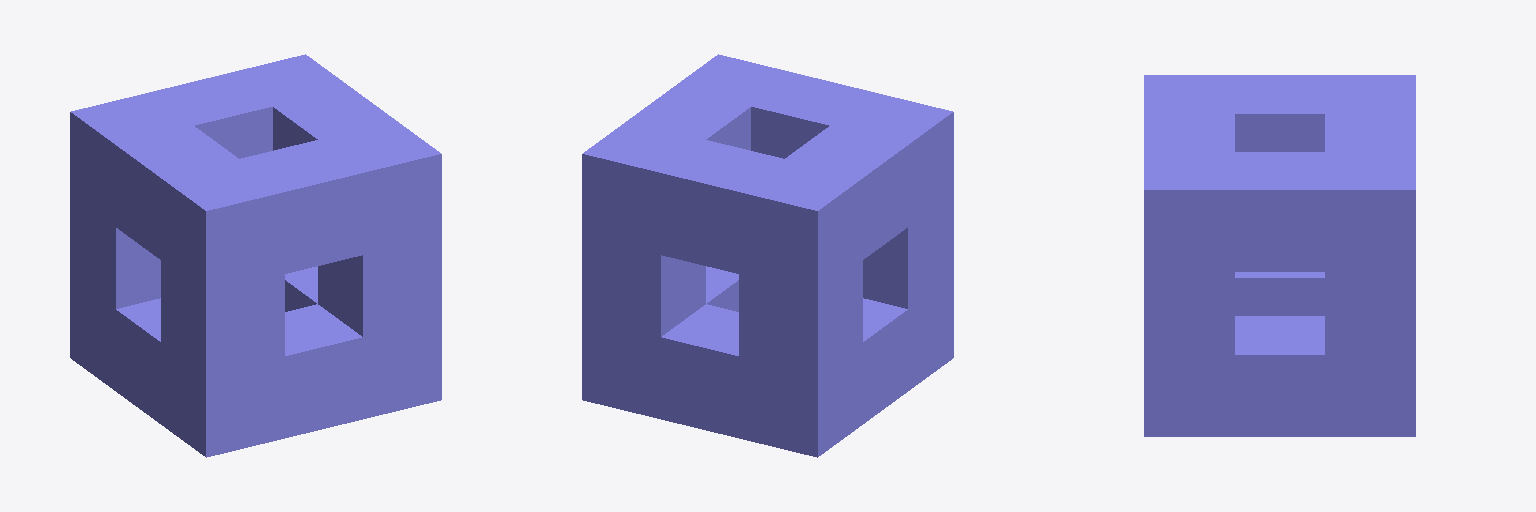
3 views of the same model, side by side, from view 1: azimuth 30°, elevation 25°; view 2: azimuth 150°, elevation 25°; view 3: azimuth 270°, elevation 25° (orthographic).
Parts seen in each view (by area): view 1: object 1; view 2: object 1; view 3: object 1.
Boxes of the visible parts, box(x1,y1,x2,y2) form: object 1: box(70, 54, 441, 457); object 1: box(582, 54, 953, 457); object 1: box(1144, 75, 1415, 436).
Size of the model in its own units: 0.3 by 0.3 by 0.3.
1 materials, 1 textured.